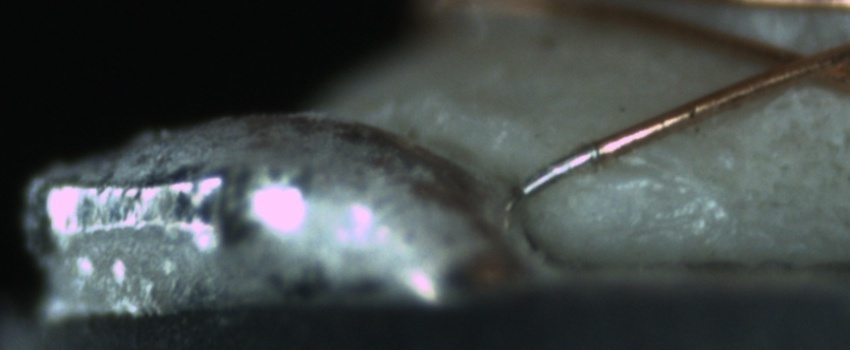CL: (754, 36, 844, 90)
TS: (515, 145, 608, 198)
